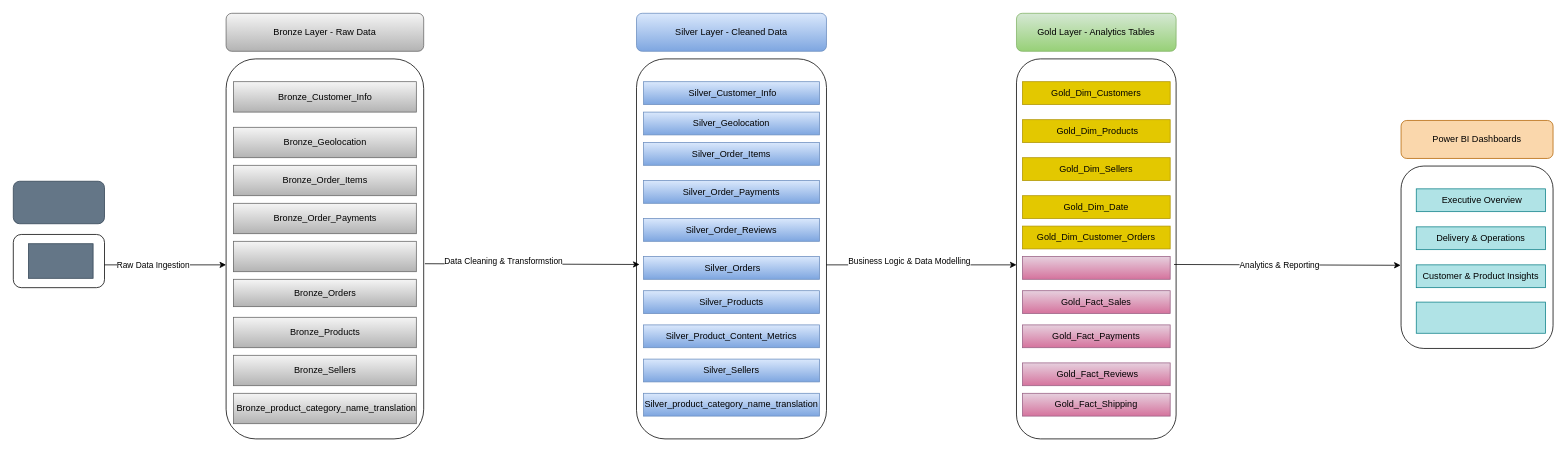
Image size: 1566x452. Some labels were removed from this diagram. Here are the shapes that lost their labels. From the top down, the box of each, then its label:
(13, 180, 104, 224): E-commerce Source Data
(28, 243, 93, 278): CSV
(233, 241, 416, 272): Bronze_Order_Reviews
(1022, 256, 1170, 279): Gold_Fact_Orders
(1416, 301, 1545, 333): Customer Feedback & Reviews
